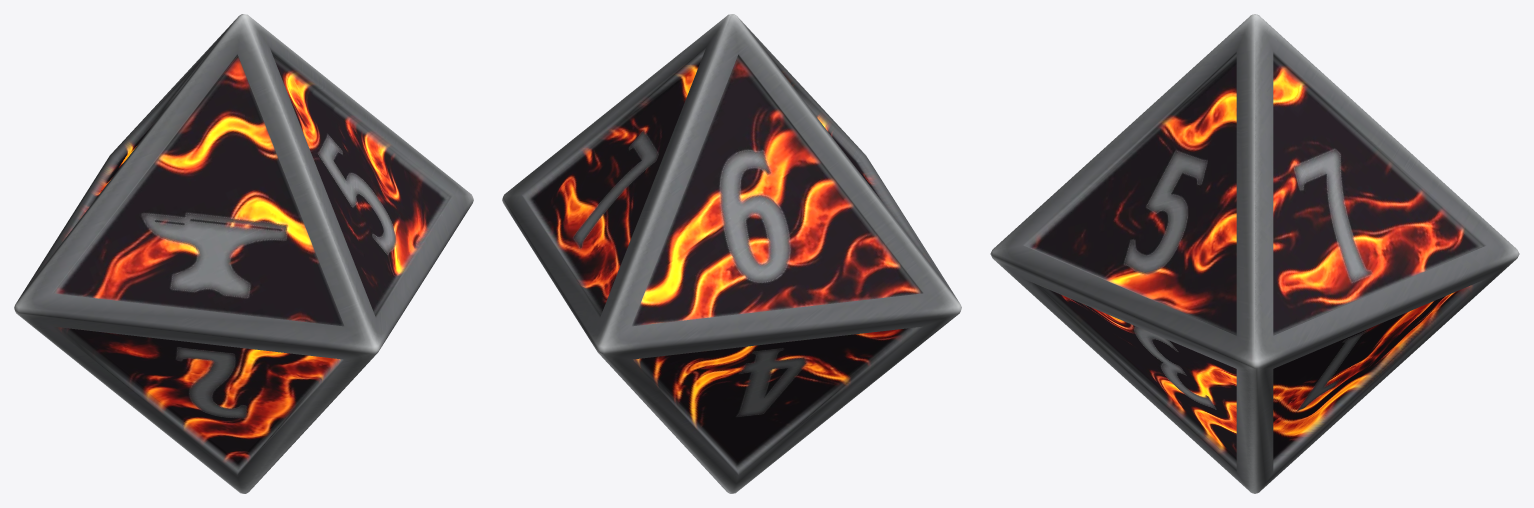
The model's file is dice_8.gltf.
The picture shows the model from 3 angles, left to right: view 1: azimuth 30°, elevation 25°; view 2: azimuth 150°, elevation 25°; view 3: azimuth 270°, elevation 25°; orthographic projection.
Visible parts, largest first — view 1: dice_8; view 2: dice_8; view 3: dice_8.
Part boxes in pixels (x1,y1,x2,y2): dice_8: (14,14,473,493); dice_8: (502,14,961,493); dice_8: (990,14,1519,493).
Bounding box in the file's own units: 197 × 197 × 197.
1 material, 1 textured.
